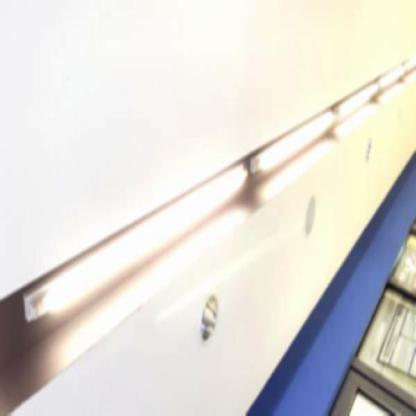light_on: (16, 161, 249, 332), (254, 105, 338, 178), (332, 78, 381, 122), (382, 60, 406, 89), (405, 57, 415, 76)
